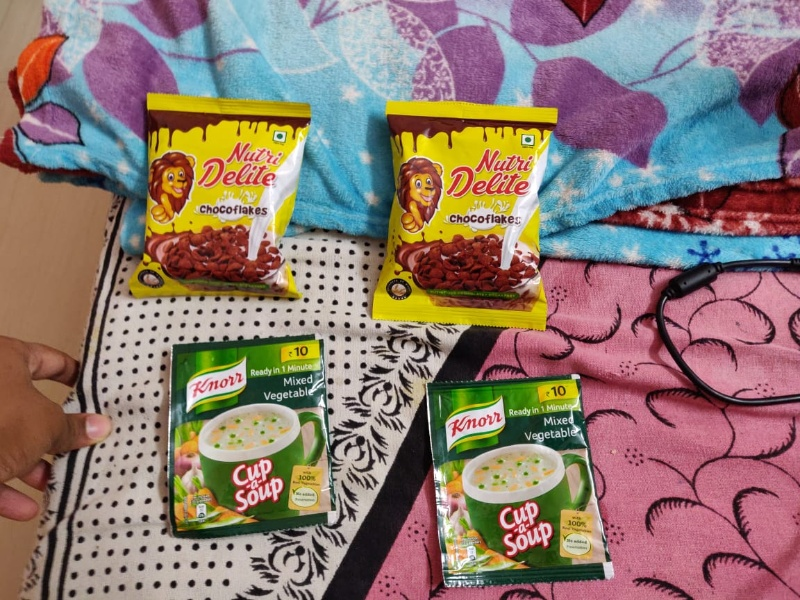Knorr_Cup_Soup: (417, 379, 618, 600), (167, 338, 336, 535)
nutriDelite: (383, 106, 555, 345), (141, 94, 308, 301)
